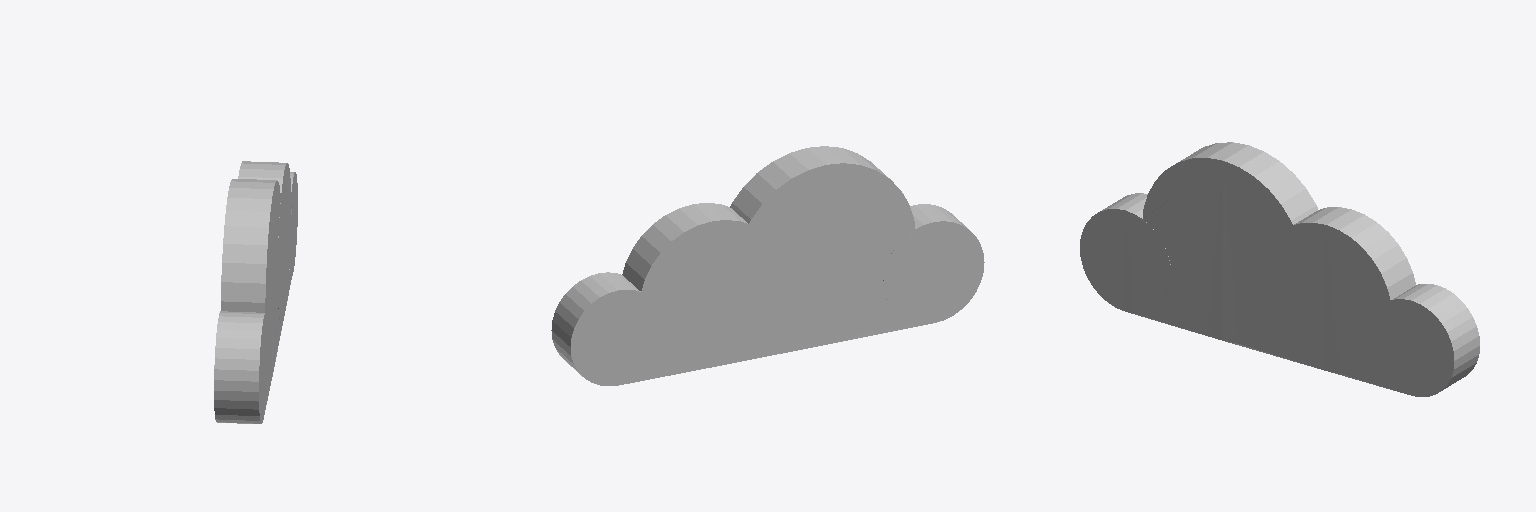
The model's file is soundcloud coin.obj.
The picture shows the model from 3 angles: view 1: azimuth 30°, elevation 25°; view 2: azimuth 150°, elevation 25°; view 3: azimuth 270°, elevation 25°; orthographic projection.
Parts seen in each view (by area): view 1: Cylinder_Cylinder.004; view 2: Cylinder_Cylinder.004; view 3: Cylinder_Cylinder.004.
Part boxes in pixels (bbox=[...]): Cylinder_Cylinder.004: bbox=[214, 161, 297, 423]; Cylinder_Cylinder.004: bbox=[551, 146, 984, 385]; Cylinder_Cylinder.004: bbox=[1080, 142, 1479, 396].
Bounding box in the file's own units: 2.61 × 1.73 × 3.5.